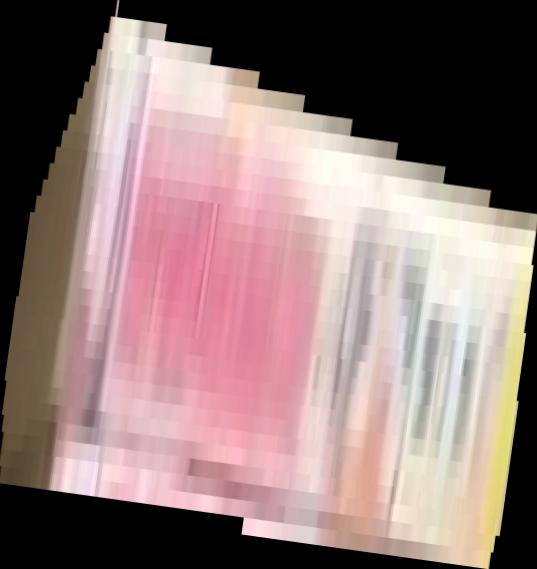flat: (1, 1, 537, 569)
